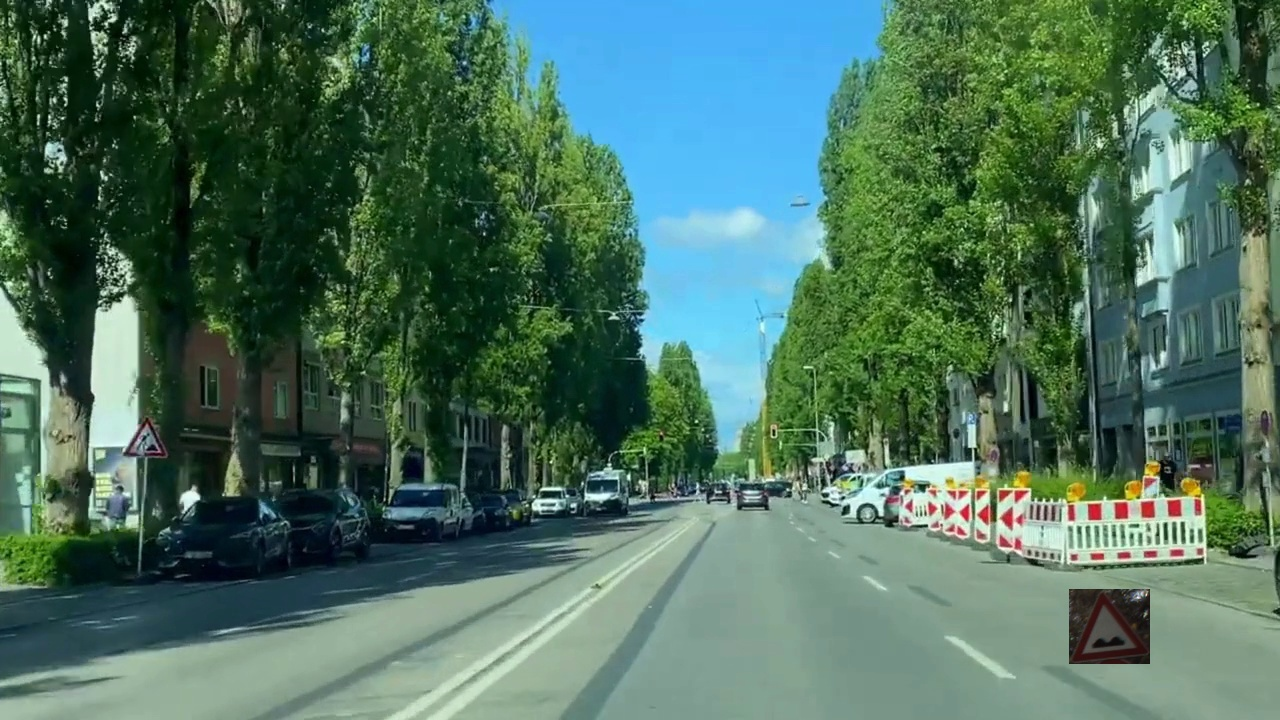Bumpy road: (1069, 589, 1150, 664)
